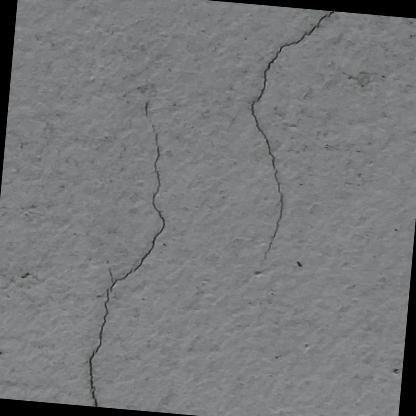crack: (82, 110, 170, 408), (245, 9, 339, 250)
